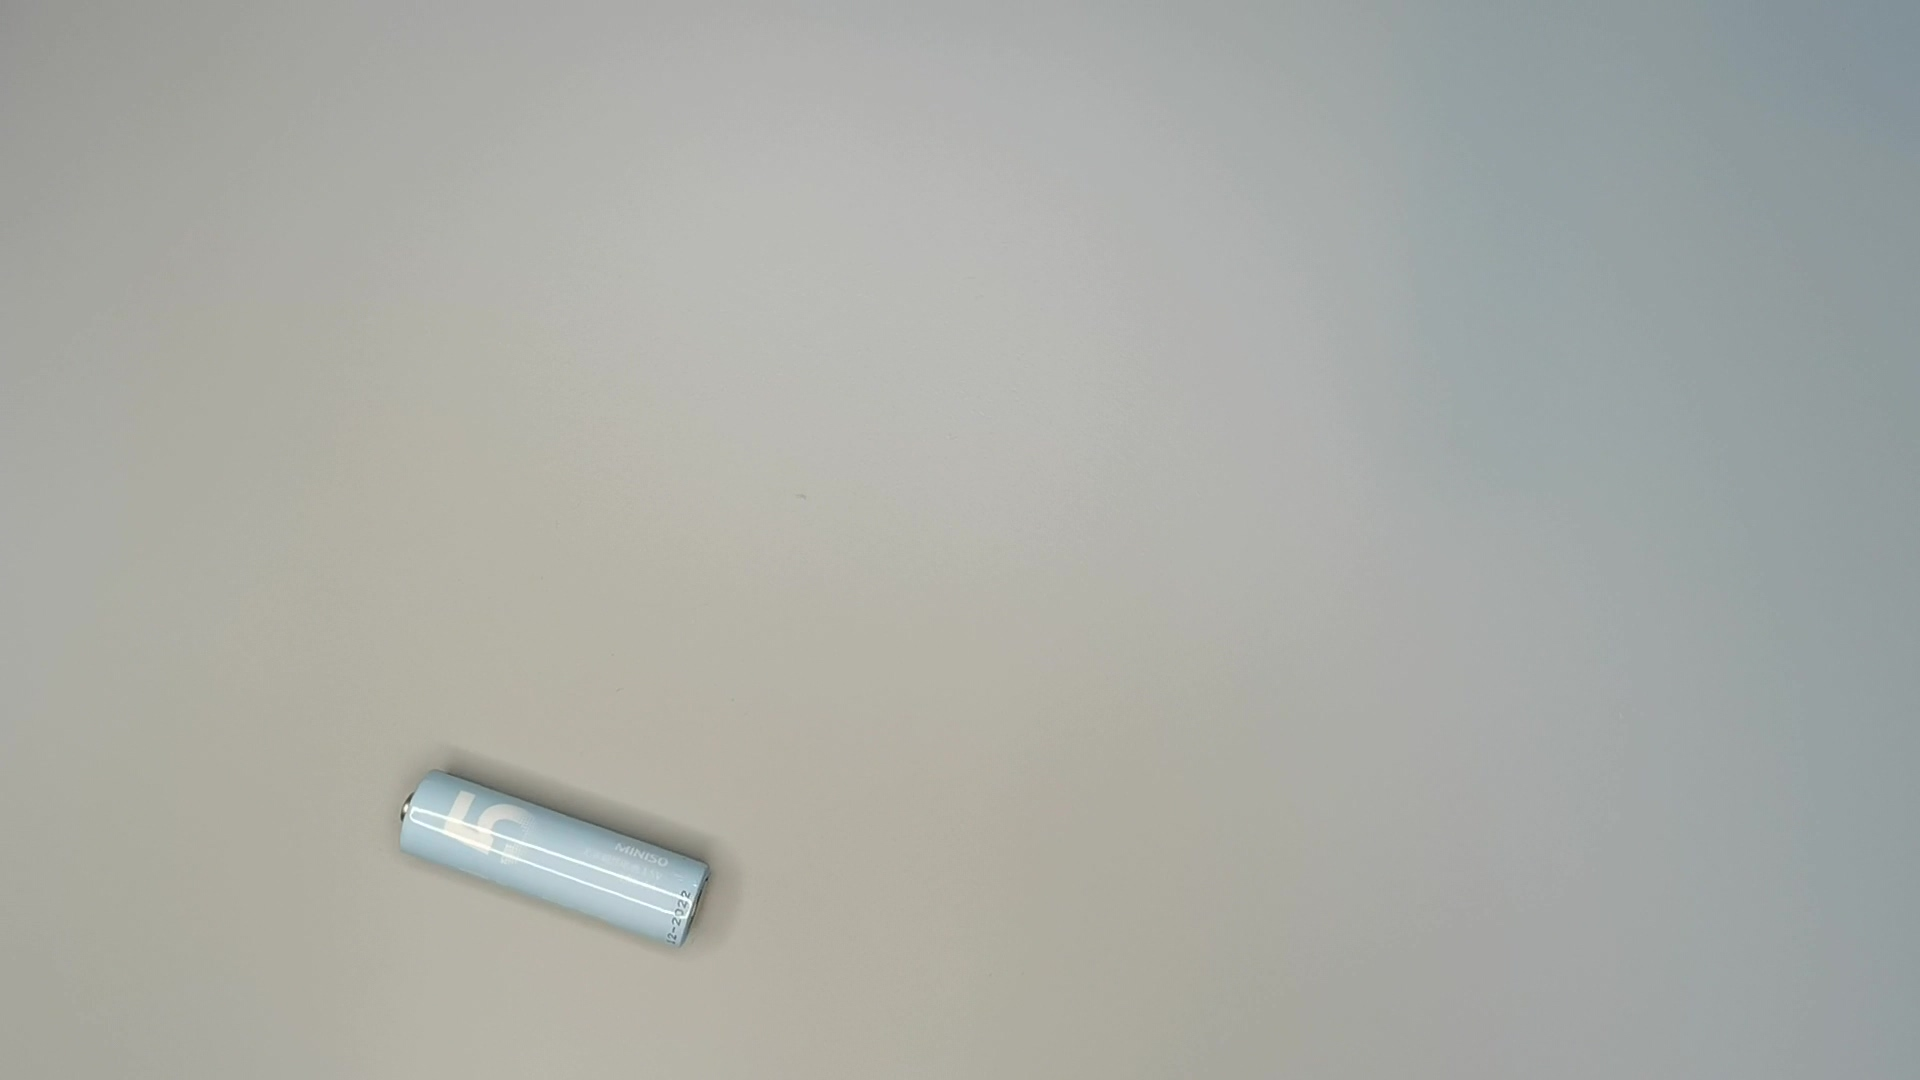battery: (392, 758, 719, 961)
